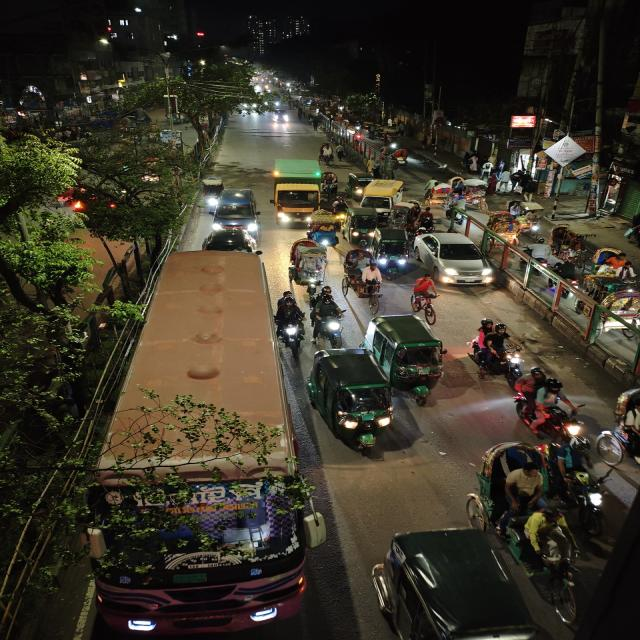bicycle: (411, 274, 441, 320)
bus: (90, 461, 312, 635)
car: (416, 231, 496, 289), (211, 185, 261, 234), (271, 109, 290, 123)
cng: (362, 527, 566, 640), (310, 349, 398, 451), (369, 312, 449, 396), (376, 227, 412, 276), (346, 207, 378, 243)
human_hauler: (361, 176, 405, 212)
motorcycle: (511, 367, 578, 441), (468, 316, 528, 388), (310, 294, 349, 346), (274, 288, 306, 351), (410, 206, 437, 233)
pedestrian: (520, 172, 540, 202), (316, 142, 335, 166)
rickshaw: (287, 238, 330, 292), (343, 253, 385, 305), (486, 209, 531, 243), (306, 208, 341, 248), (197, 174, 225, 213), (424, 178, 453, 208)
truck: (268, 156, 333, 226)
